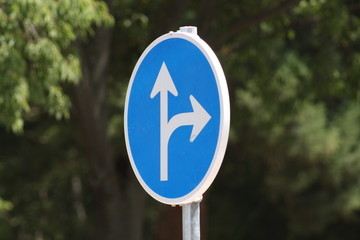ileri_veya_saga: (125, 33, 224, 203)
